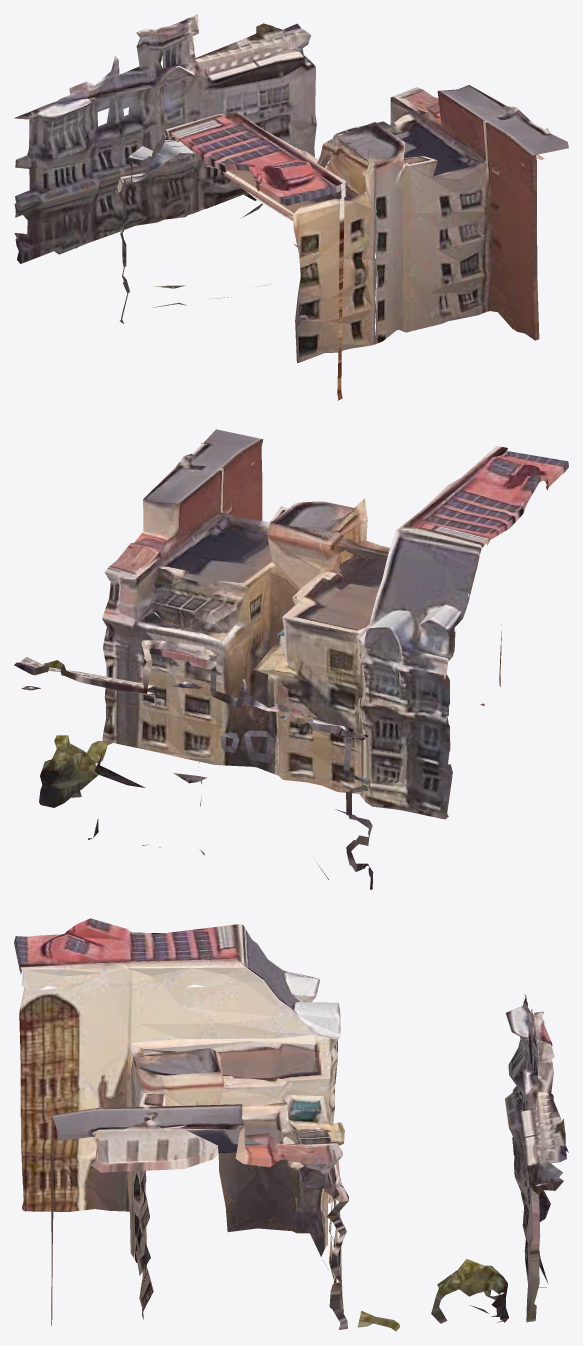
3 views of the same model, one above another, from view 1: azimuth 30°, elevation 25°; view 2: azimuth 150°, elevation 25°; view 3: azimuth 270°, elevation 25° (orthographic). The views are drawn at different scales.
Visible parts, largest first — view 1: Mesh_0; view 2: Mesh_0; view 3: Mesh_0.
Part boxes in pixels (box(x1,y1,x2,y2)): Mesh_0: box(14, 14, 568, 400); Mesh_0: box(14, 429, 568, 889); Mesh_0: box(14, 918, 568, 1331).
Bounding box in the file's own units: 33.32 × 21.41 × 41.23.
Materials: 2 (2 with a texture image).
